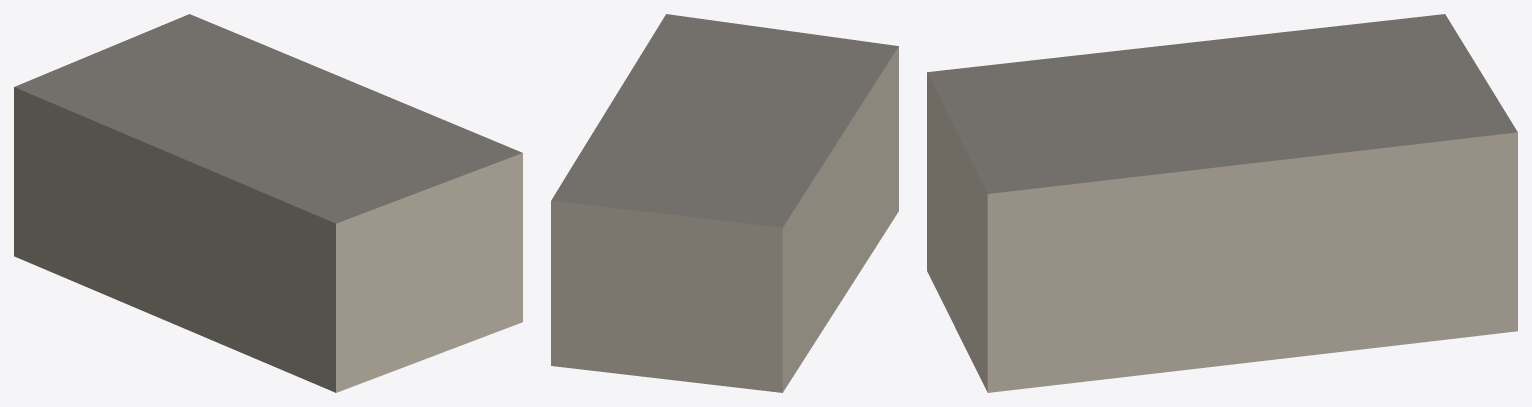
3 views of the same model, side by side, from view 1: azimuth 30°, elevation 25°; view 2: azimuth 150°, elevation 25°; view 3: azimuth 270°, elevation 25° (orthographic). The views are drawn at different scales.
Visible parts, largest first — view 1: HP-w380339961; view 2: HP-w380339961; view 3: HP-w380339961.
Part boxes in pixels (x1,y1,x2,y2): HP-w380339961: (14,14,522,392); HP-w380339961: (551,14,898,392); HP-w380339961: (927,14,1517,392).
Bounding box in the file's own units: 34.94 × 18 × 48.45.
